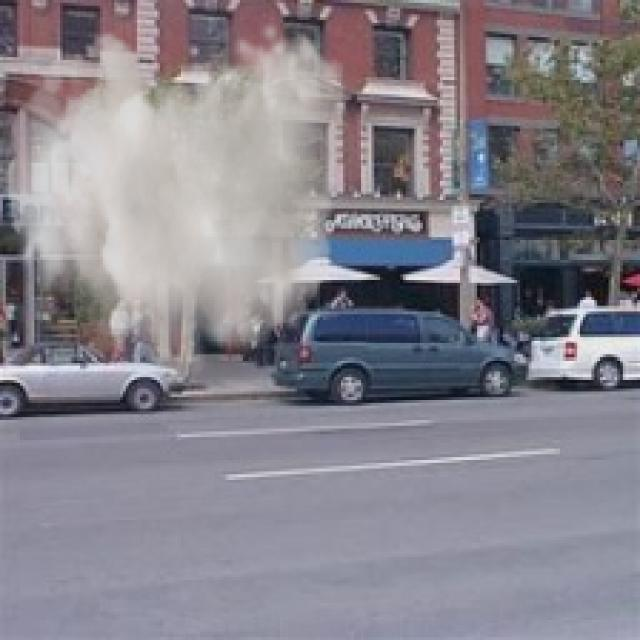smoke: (6, 20, 348, 403)
